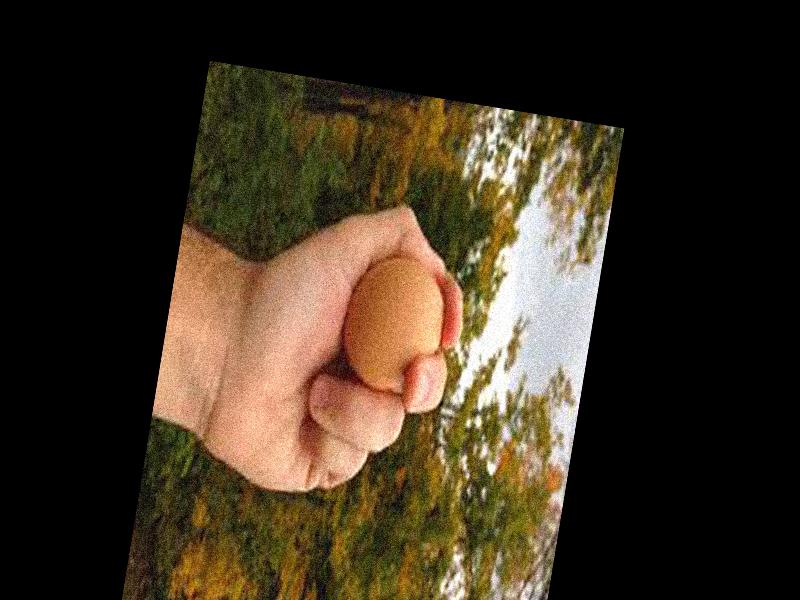Eggs: (335, 251, 451, 404)
